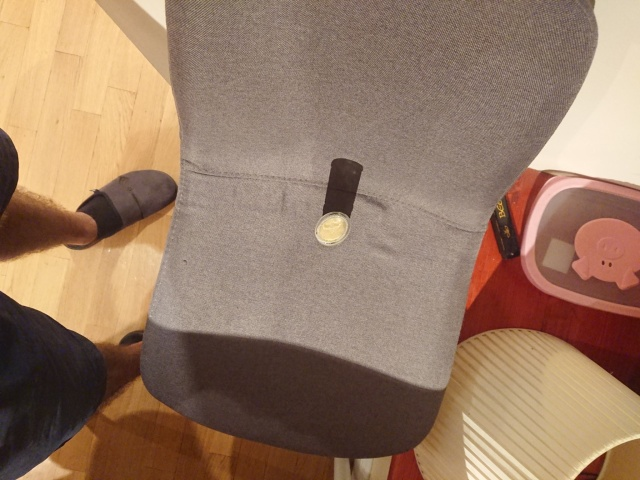Kotanyi Garlic Granules 70g: (312, 209, 353, 248)
